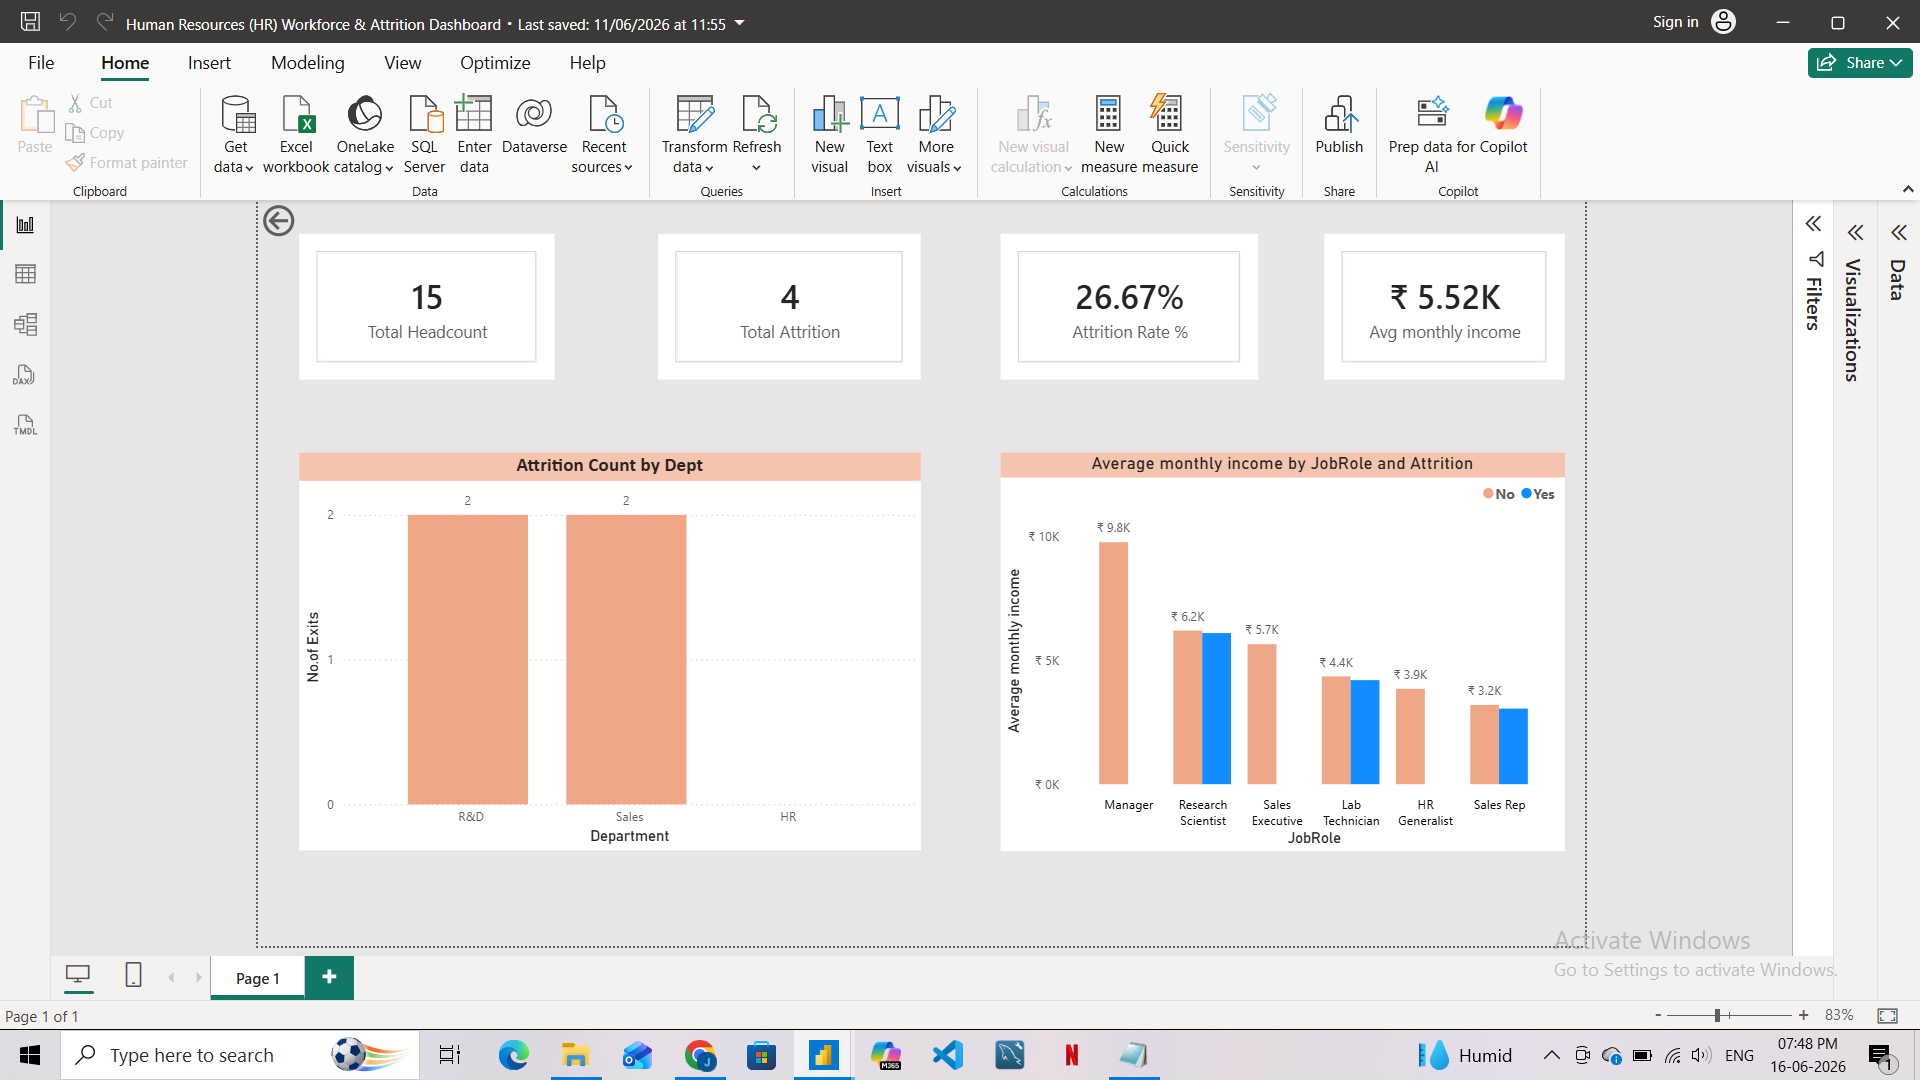

The page's visual inventory and layout, read from the dashboard file:
{"tool":"powerbi","page":{"name":"Page 1","canvas":[1280,720],"ordinal":0},"visuals":[{"type":"cardVisual","fields":{"Data":["Employee Data.Total Headcount"]},"box":[39.8,32.6,246.1,141.2],"z":0},{"type":"cardVisual","fields":{"Data":["Employee Data.Total Attrition"]},"box":[386.1,32.6,253.4,141.2],"z":1000},{"type":"cardVisual","fields":{"Data":["Employee Data.Attrition Rate %"]},"box":[716.6,32.6,248.5,141.2],"z":2000},{"type":"actionButton","box":[0,0,100,40],"z":3000},{"type":"cardVisual","fields":{"Data":["Employee Data.Average monthly income"]},"box":[1029.1,32.6,231.6,141.2],"z":4000},{"type":"clusteredColumnChart","title":"Attrition Count by Dept","fields":{"Y":["Employee Data.Attrition Count by Dept"],"Category":["Employee Data.Department"]},"box":[39.8,243.7,599.6,383.6],"z":5000},{"type":"clusteredColumnChart","fields":{"Y":["Employee Data.Average monthly income"],"Category":["Employee Data.JobRole"],"Series":["Employee Data.Attrition"]},"box":[717,243.7,544.5,384.9],"z":6000}]}

Visuals, with their boxes on the page's 1280x720 design canvas (x1, y1, x2, y2). These are canvas units, not pixel positions in the 1920x1080 screenshot, which may show the page scaled, cropped or inside an application window:
cardVisual - Employee Data.Total Headcount: locate(40, 33, 286, 174)
cardVisual - Employee Data.Total Attrition: locate(386, 33, 640, 174)
cardVisual - Employee Data.Attrition Rate %: locate(717, 33, 965, 174)
actionButton: locate(0, 0, 100, 40)
cardVisual - Employee Data.Average monthly income: locate(1029, 33, 1261, 174)
"Attrition Count by Dept" clusteredColumnChart: locate(40, 244, 639, 627)
clusteredColumnChart - Employee Data.Average monthly income x Employee Data.JobRole: locate(717, 244, 1262, 629)
